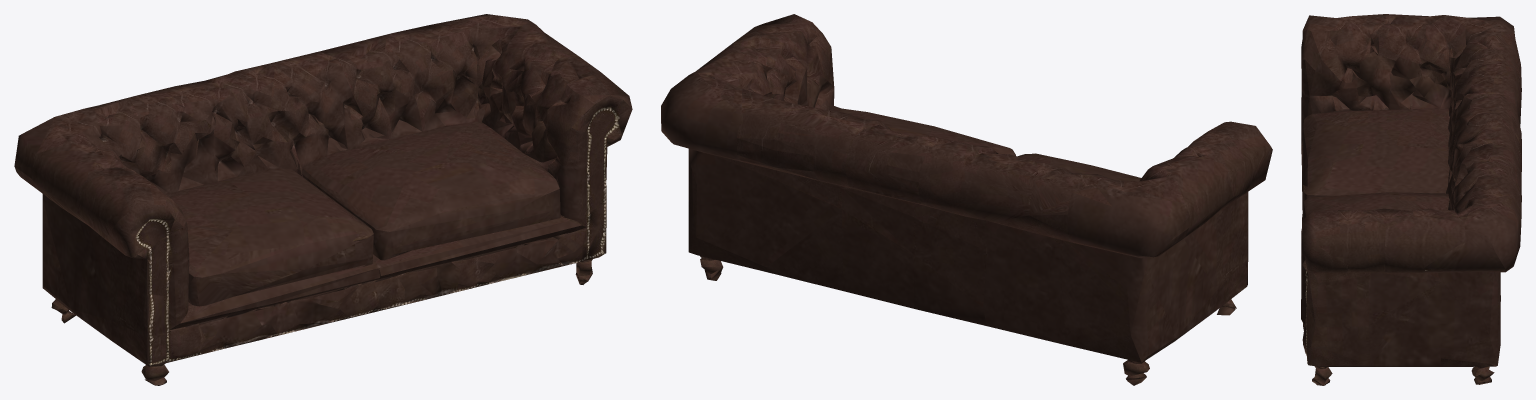
Rendered from sp_m_sofa.glb.
3 views of the same model, side by side, from view 1: azimuth 30°, elevation 25°; view 2: azimuth 150°, elevation 25°; view 3: azimuth 270°, elevation 25° (orthographic). The views are drawn at different scales.
Visible parts, largest first — view 1: Mesh_0; view 2: Mesh_0; view 3: Mesh_0.
Part boxes in pixels (x1,y1,x2,y2): Mesh_0: (14, 14, 632, 385); Mesh_0: (661, 14, 1272, 385); Mesh_0: (1301, 14, 1521, 385).
Bounding box in the file's own units: 1.9 × 0.7044 × 0.7877.
1 material, 1 textured.
